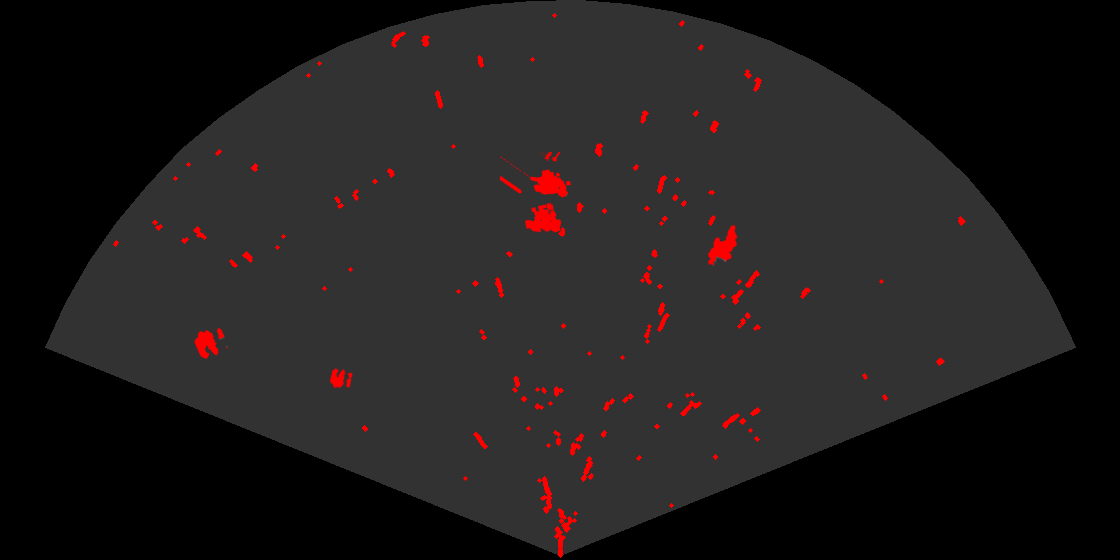AUV: (706, 223, 739, 267)
ball: (193, 326, 230, 361), (328, 367, 354, 390)
cage: (500, 152, 573, 234)
